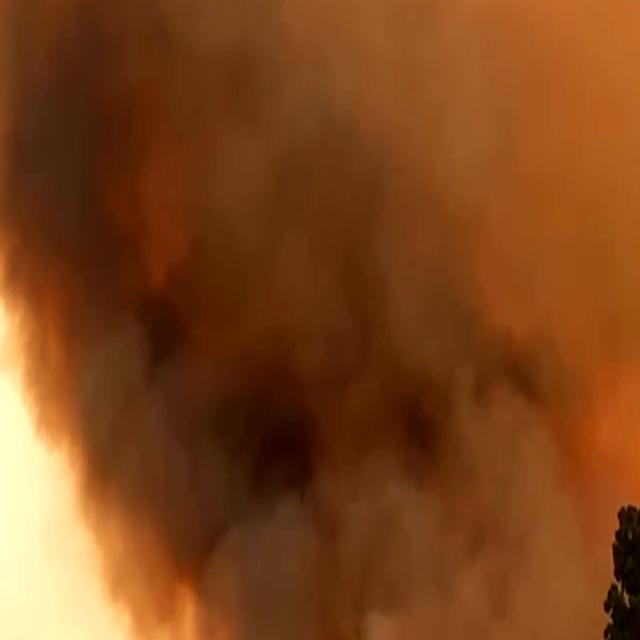smoke: (0, 0, 415, 640)
